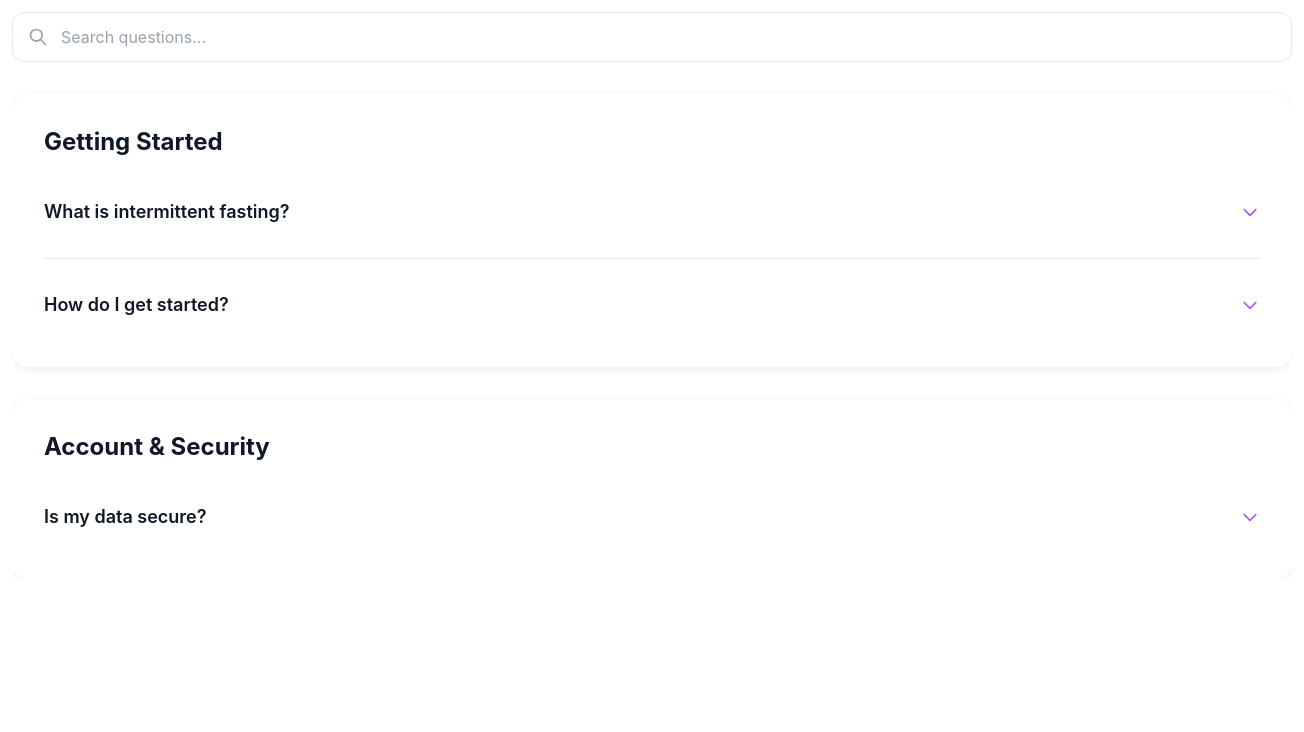
Test: FAQList Component › Expand/Collapse Functionality › should expand and collapse FAQ items
// Click to expand
Click the button "What is intermittent fasting?" at (167, 212), box [44, 182, 1260, 242]
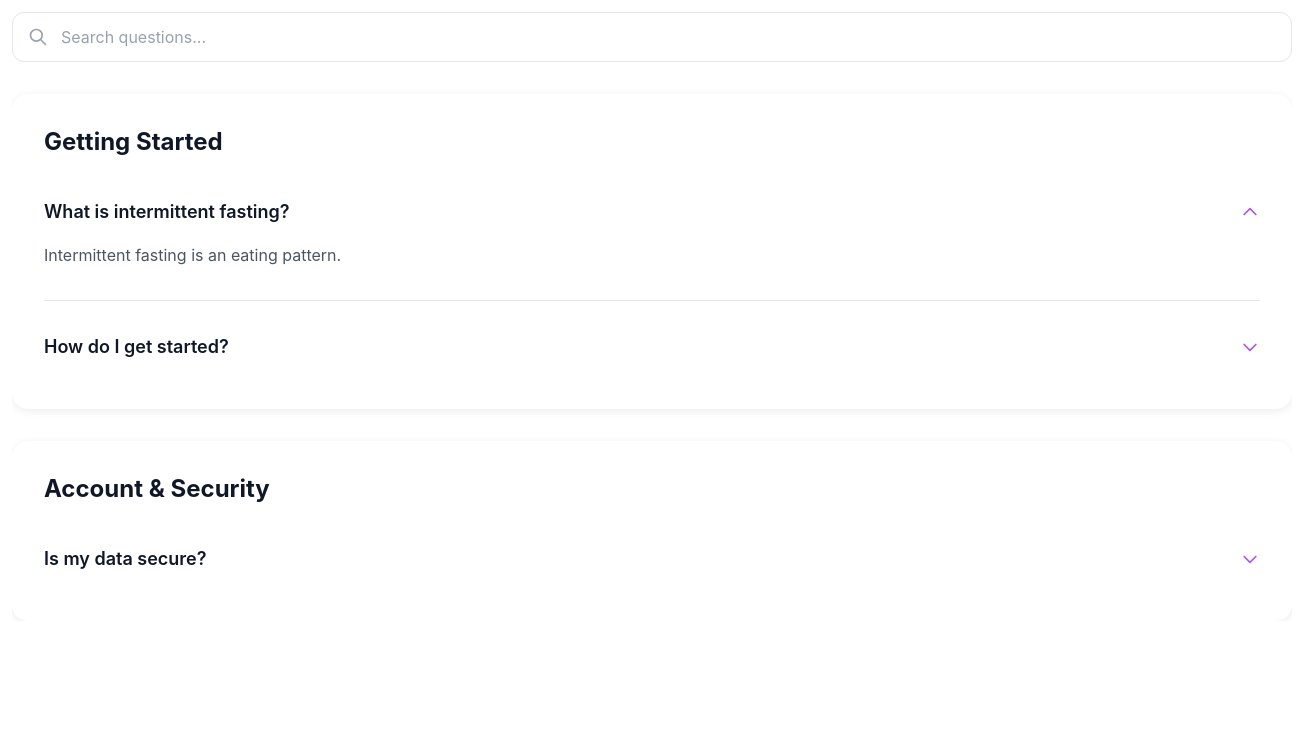
Expected: the text "Intermittent fasting is an eating pattern." is shown, [44, 245, 341, 265]
// Click to collapse
Click the button "What is intermittent fasting?" at (167, 212), box [44, 182, 1260, 242]
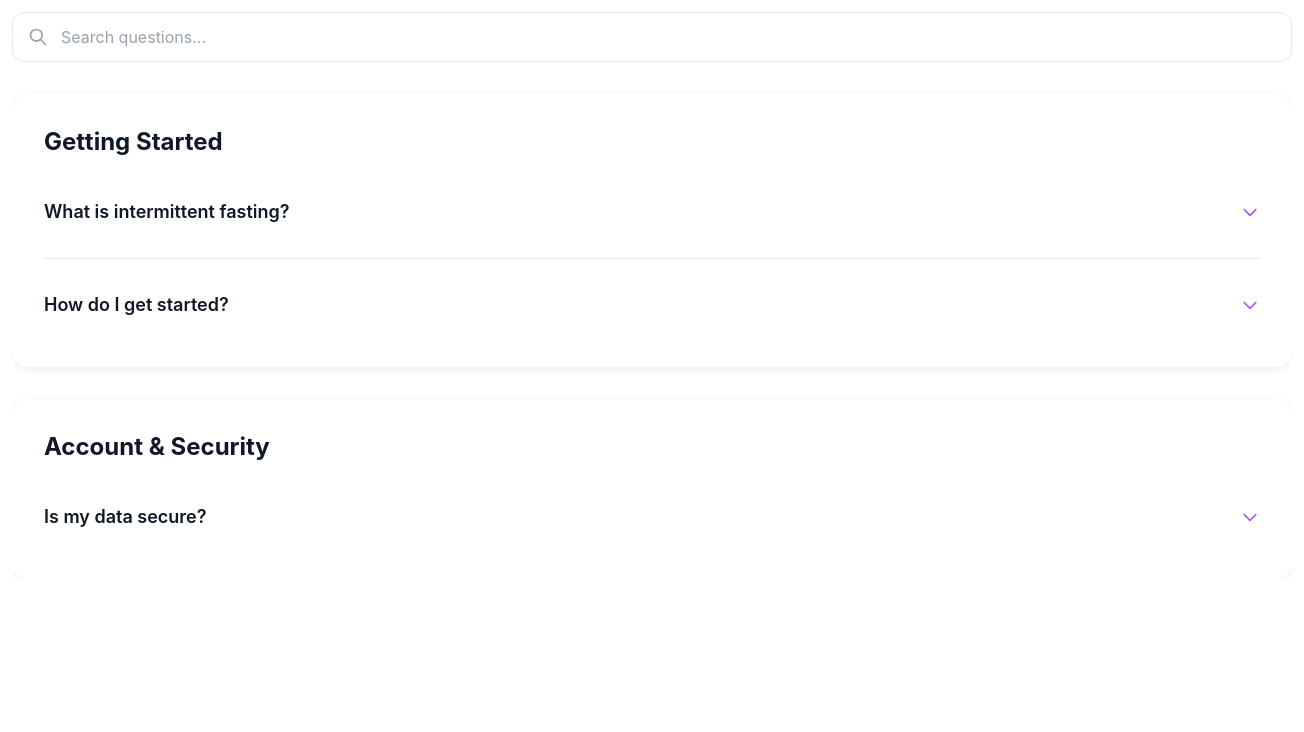
Expected: the text "Intermittent fasting is an eating pattern." is gone
